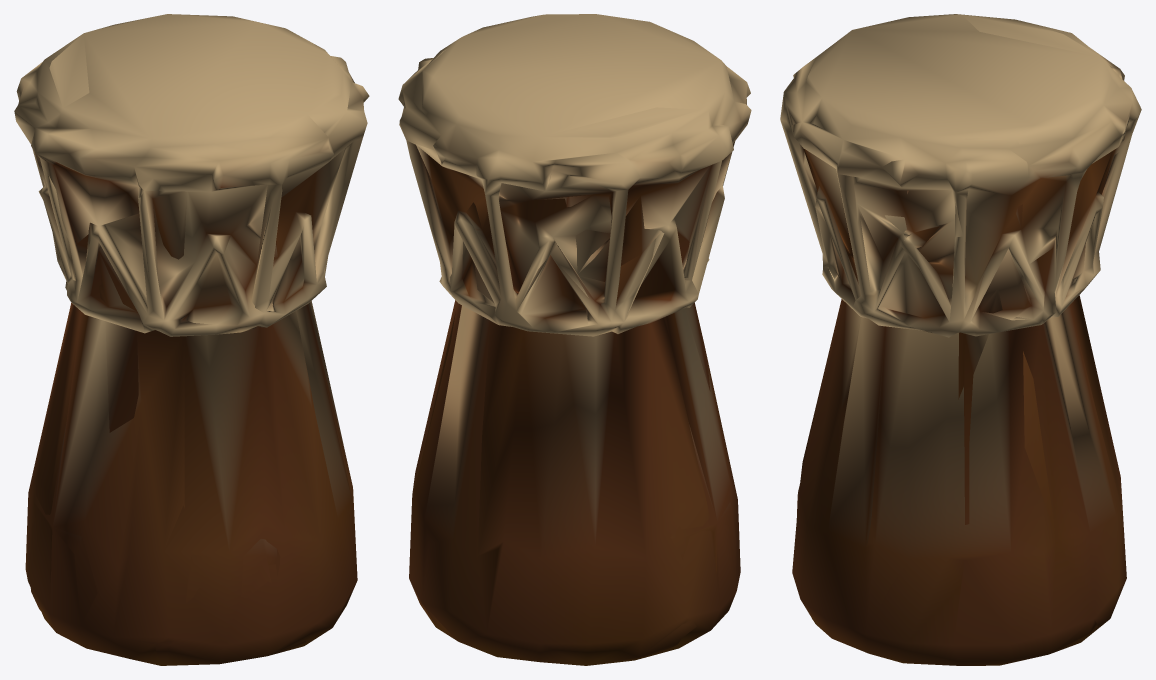
Rendered from gen3d-tribal-drum-lod1.glb.
3 renders of one model, left to right at view 1: azimuth 30°, elevation 25°; view 2: azimuth 150°, elevation 25°; view 3: azimuth 270°, elevation 25°, orthographic.
Parts seen in each view (by area): view 1: part_0; view 2: part_0; view 3: part_0.
Boxes of the visible parts, x1,y1,x2,y2 form: part_0: (14,14,369,665); part_0: (398,14,751,665); part_0: (780,14,1141,665).
Bounding box in the file's own units: 0.6209 × 0.9996 × 0.6179.
